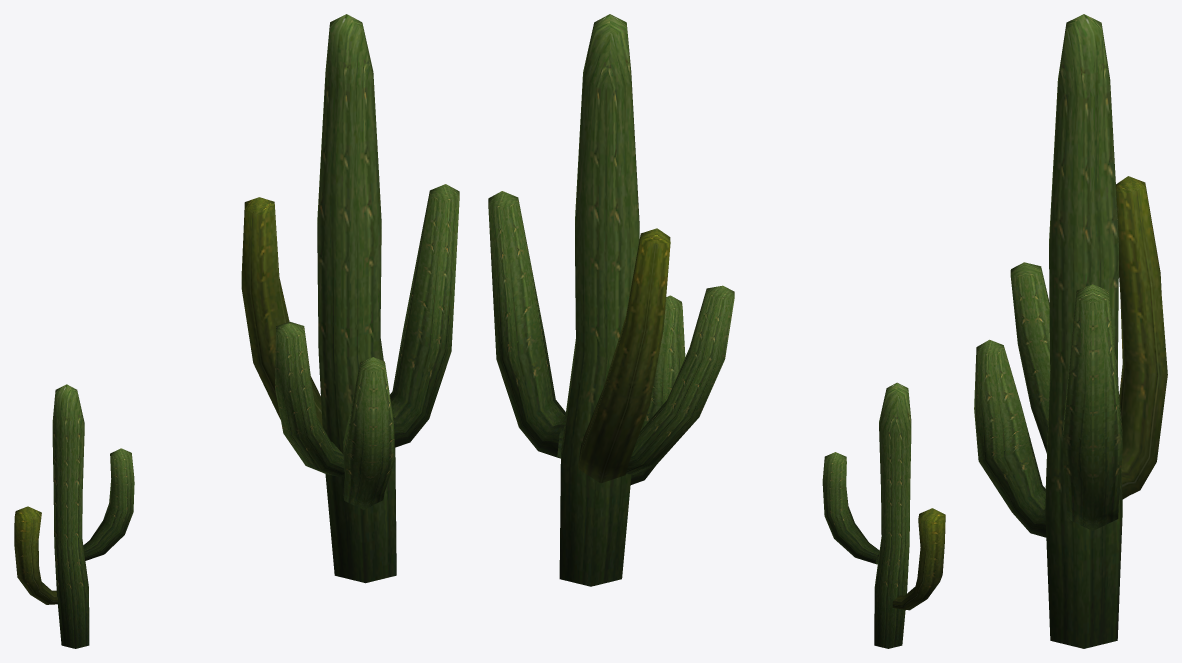
File: SC101Wxianrenzhang.FBX
3 views of the same model, side by side, from view 1: azimuth 30°, elevation 25°; view 2: azimuth 150°, elevation 25°; view 3: azimuth 270°, elevation 25° (orthographic). The views are drawn at different scales.
Visible parts, largest first — view 1: SC101Wxianrenzhang01, SC101Wxianrenzhang02; view 2: SC101Wxianrenzhang01, SC101Wxianrenzhang02; view 3: SC101Wxianrenzhang01.
Boxes of the visible parts, bbox=[...] form: SC101Wxianrenzhang01: bbox=[241, 14, 459, 583]; SC101Wxianrenzhang02: bbox=[14, 384, 134, 648]; SC101Wxianrenzhang01: bbox=[488, 14, 734, 586]; SC101Wxianrenzhang02: bbox=[822, 382, 945, 648]; SC101Wxianrenzhang01: bbox=[974, 14, 1167, 648].
Bounding box in the file's own units: 2.3 × 2.74 × 0.7898.
